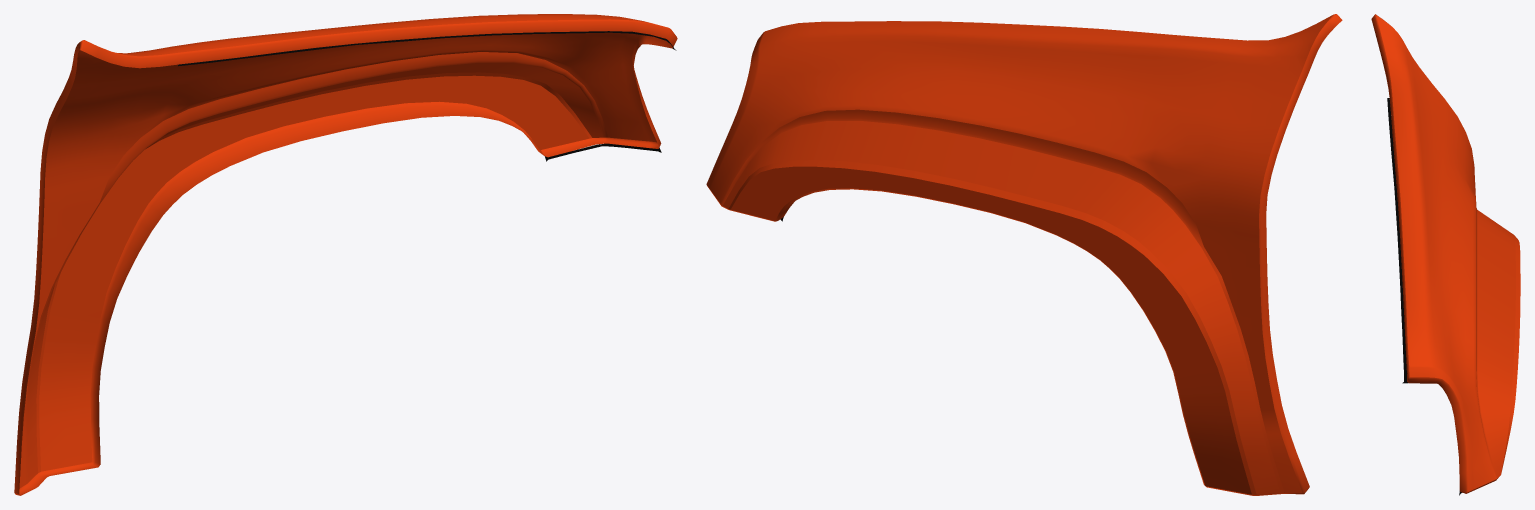
The picture shows the model from 3 angles, left to right: view 1: azimuth 30°, elevation 25°; view 2: azimuth 150°, elevation 25°; view 3: azimuth 270°, elevation 25°; orthographic projection. The views are drawn at different scales.
Parts seen in each view (by area): view 1: U843_9A_121B_L_U843_9A_121B_L_1_DaS, U843_9A_121B_L_U843_9A_121B_L_1_DaS_E, U843_9A_121B_L_2_D_U843_9A_121B_L; view 2: U843_9A_121B_L_U843_9A_121B_L_1_DaS, U843_9A_121B_L_U843_9A_121B_L_1_DaS_E; view 3: U843_9A_121B_L_U843_9A_121B_L_1_DaS, U843_9A_121B_L_U843_9A_121B_L_1_DaS_E, U843_9A_121B_L_2_D_U843_9A_121B_L.
Part boxes in pixels (x1=…): U843_9A_121B_L_U843_9A_121B_L_1_DaS: x1=19, y1=14, x2=656, y2=488; U843_9A_121B_L_U843_9A_121B_L_1_DaS_E: x1=14, y1=19, x2=677, y2=495; U843_9A_121B_L_2_D_U843_9A_121B_L: x1=178, y1=31, x2=676, y2=161; U843_9A_121B_L_U843_9A_121B_L_1_DaS: x1=706, y1=15, x2=1332, y2=494; U843_9A_121B_L_U843_9A_121B_L_1_DaS_E: x1=707, y1=14, x2=1342, y2=495; U843_9A_121B_L_U843_9A_121B_L_1_DaS: x1=1376, y1=15, x2=1515, y2=492; U843_9A_121B_L_U843_9A_121B_L_1_DaS_E: x1=1371, y1=14, x2=1520, y2=493; U843_9A_121B_L_2_D_U843_9A_121B_L: x1=1387, y1=98, x2=1462, y2=495.
Bounding box in the file's own units: 108 × 77.89 × 27.3.
